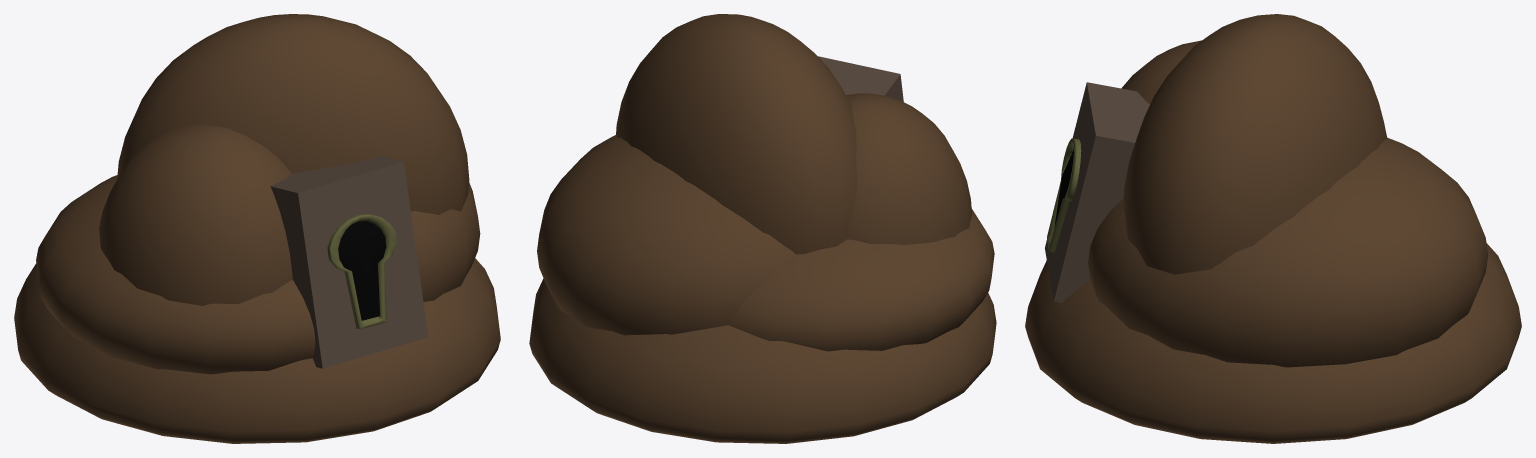
Rendered from StoneDoorV1.fbx.
3 views of the same model, side by side, from view 1: azimuth 30°, elevation 25°; view 2: azimuth 150°, elevation 25°; view 3: azimuth 270°, elevation 25° (orthographic). The views are drawn at different scales.
Parts seen in each view (by area): view 1: pSphere2, pSphere1, pSphere3, pSphere4, pCube1, Keyhole:pCylinder1, pSphere5; view 2: pSphere1, pSphere2, pSphere5, pSphere4, pSphere3, pCube1; view 3: pSphere5, pSphere2, pSphere1, pCube1, Keyhole:pCylinder1, pSphere3.
Boxes of the visible parts, x1=… form: pSphere2: x1=117, y1=14, x2=469, y2=214; pSphere1: x1=14, y1=258, x2=500, y2=443; pSphere3: x1=99, y1=124, x2=292, y2=305; pSphere4: x1=36, y1=175, x2=315, y2=374; pCube1: x1=270, y1=156, x2=428, y2=368; Keyhole:pCylinder1: x1=327, y1=214, x2=396, y2=329; pSphere5: x1=411, y1=182, x2=480, y2=301; pSphere1: x1=529, y1=278, x2=996, y2=443; pSphere2: x1=616, y1=14, x2=857, y2=254; pSphere5: x1=537, y1=135, x2=795, y2=335; pSphere4: x1=728, y1=208, x2=994, y2=351; pSphere3: x1=846, y1=93, x2=971, y2=244; pCube1: x1=818, y1=56, x2=903, y2=101; pSphere5: x1=1088, y1=137, x2=1488, y2=367; pSphere2: x1=1123, y1=14, x2=1387, y2=274; pSphere1: x1=1025, y1=243, x2=1521, y2=443; pCube1: x1=1045, y1=82, x2=1149, y2=302; Keyhole:pCylinder1: x1=1047, y1=138, x2=1081, y2=252; pSphere3: x1=1121, y1=40, x2=1201, y2=104.
Size of the model in its own units: 1.57 by 1.18 by 1.57.
